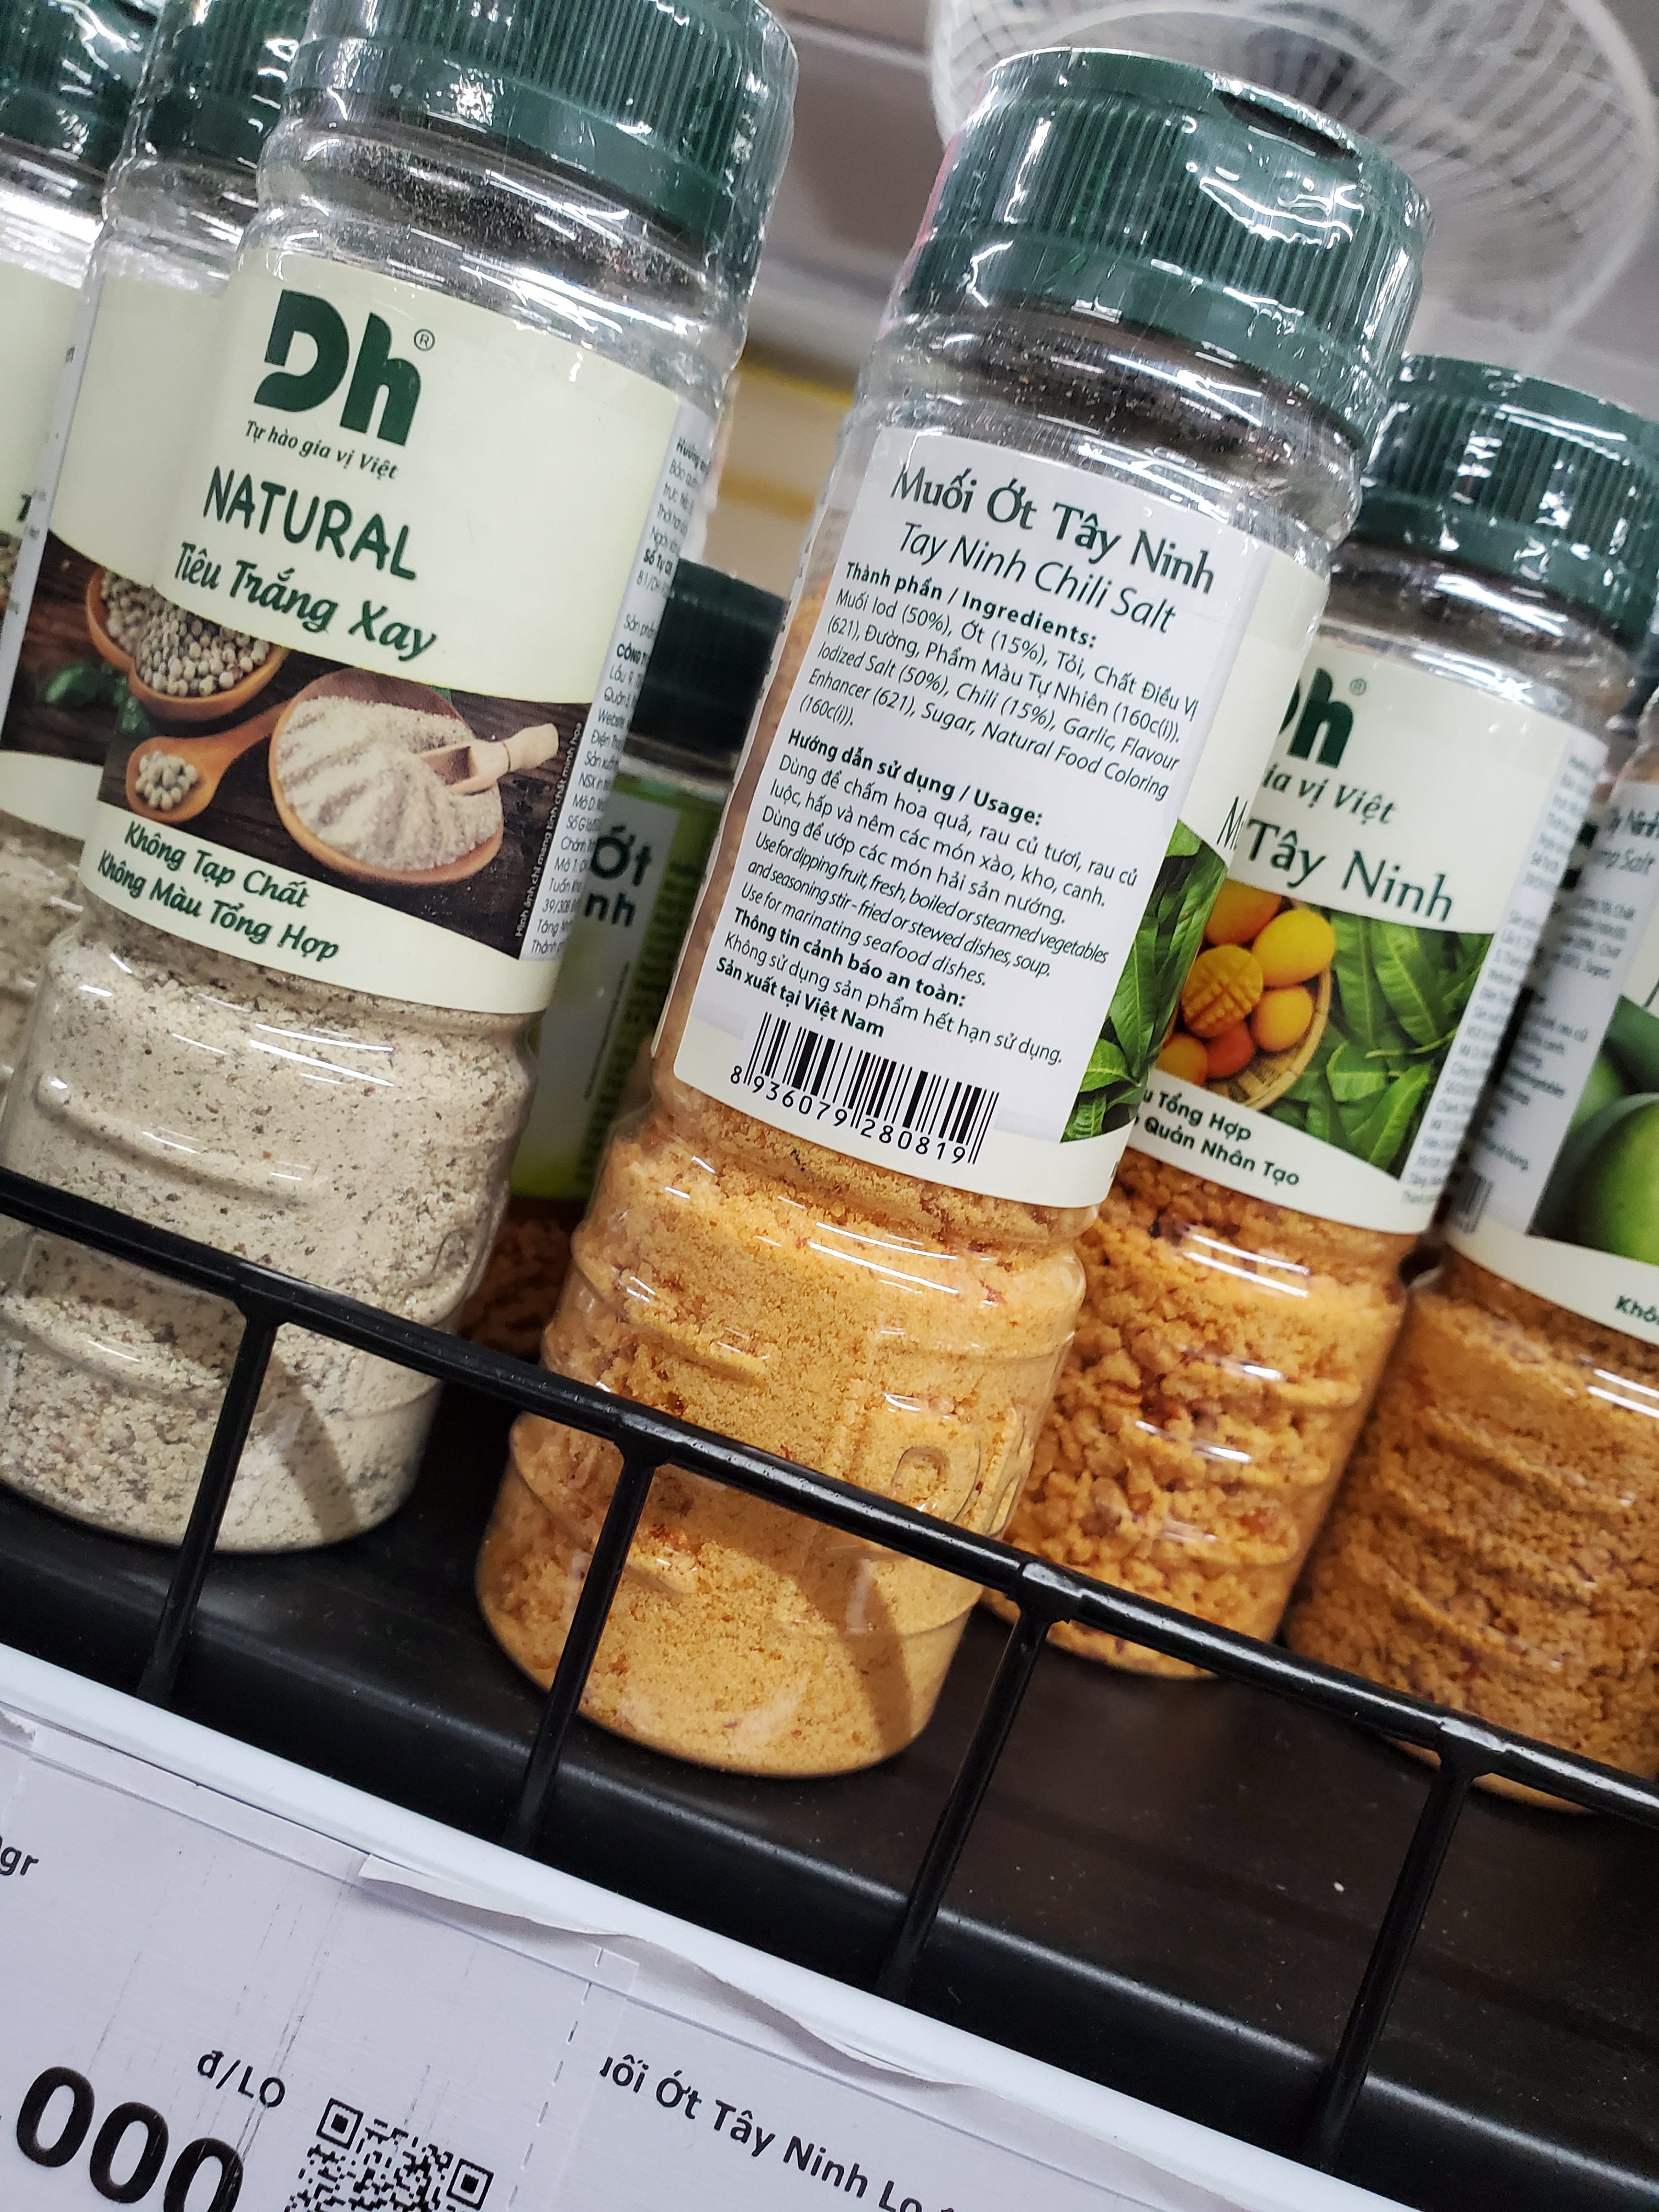barcode: (687, 1001, 1009, 1209)
